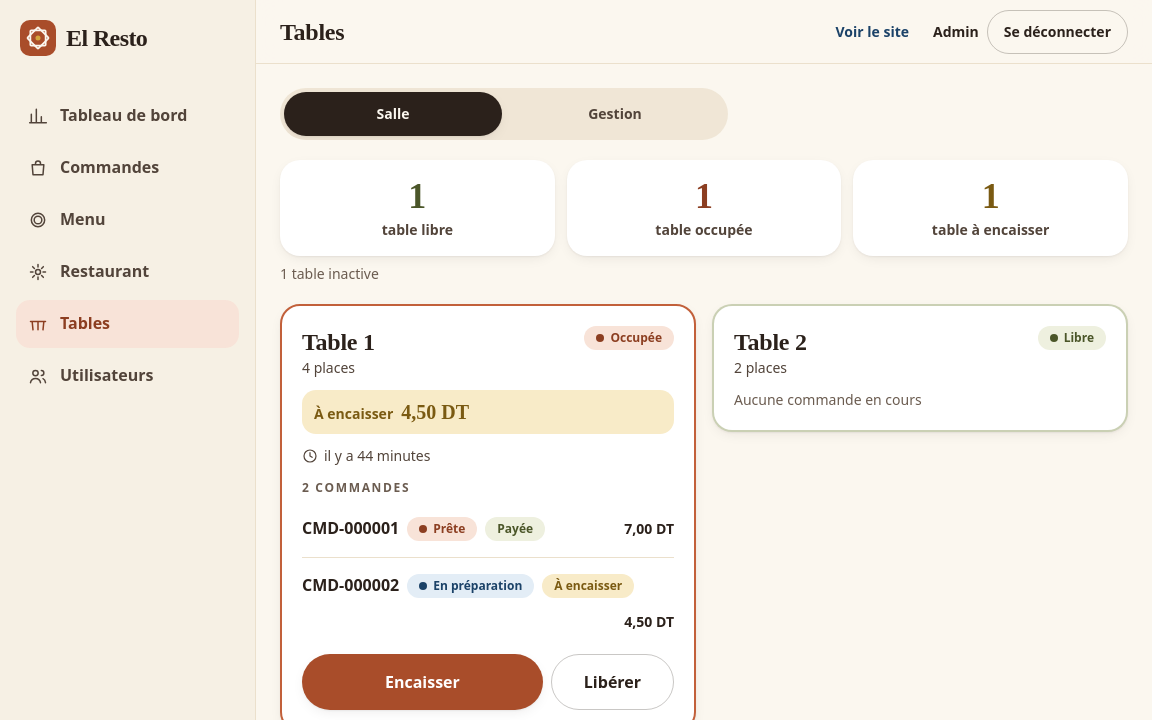
Salle : encaisser et libérer › libérer bloqué : explique les blocages et affiche le 409 du serveur sans échec silencieux
Expected: the heading "Table 1" is shown, [302,326,375,358]
Click the button "Libérer" at (612, 682), box [551,654,674,710]
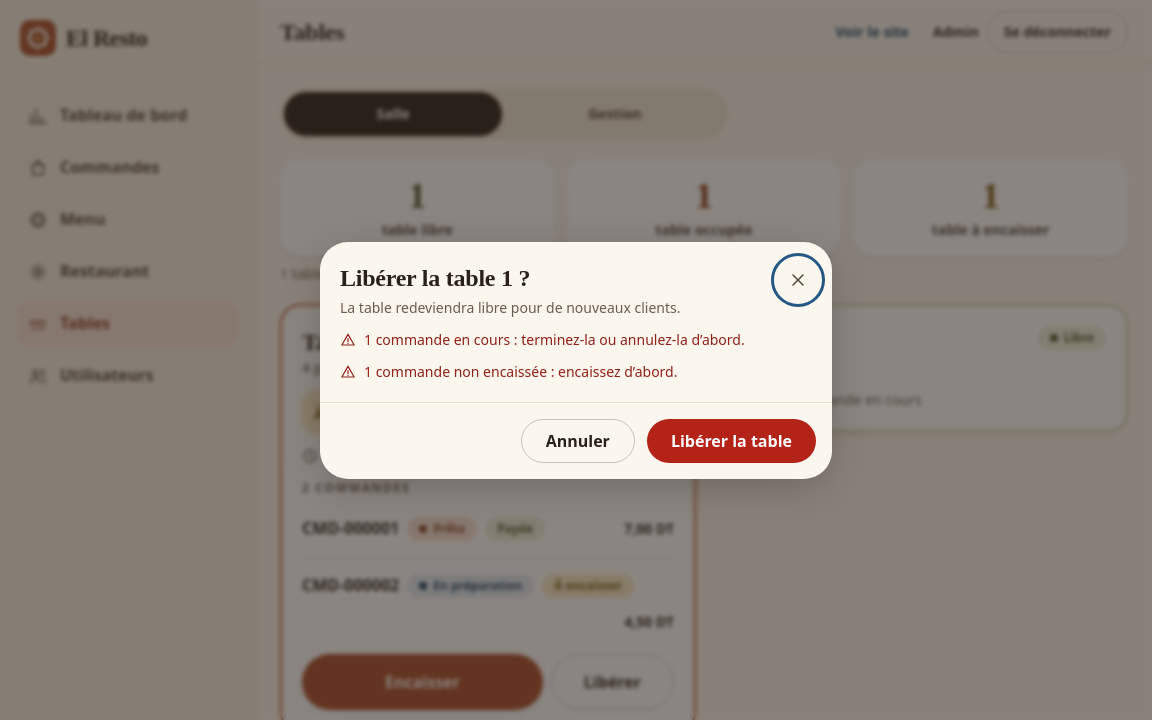
Expected: the text "1 commande en cours : terminez-la ou annulez-la d’abord." is shown, [340,330,812,350]
Expected: the text "1 commande non encaissée : encaissez d’abord." is shown, [340,362,678,380]
Click the button "Libérer la table" at (731, 440), box [647,418,816,462]
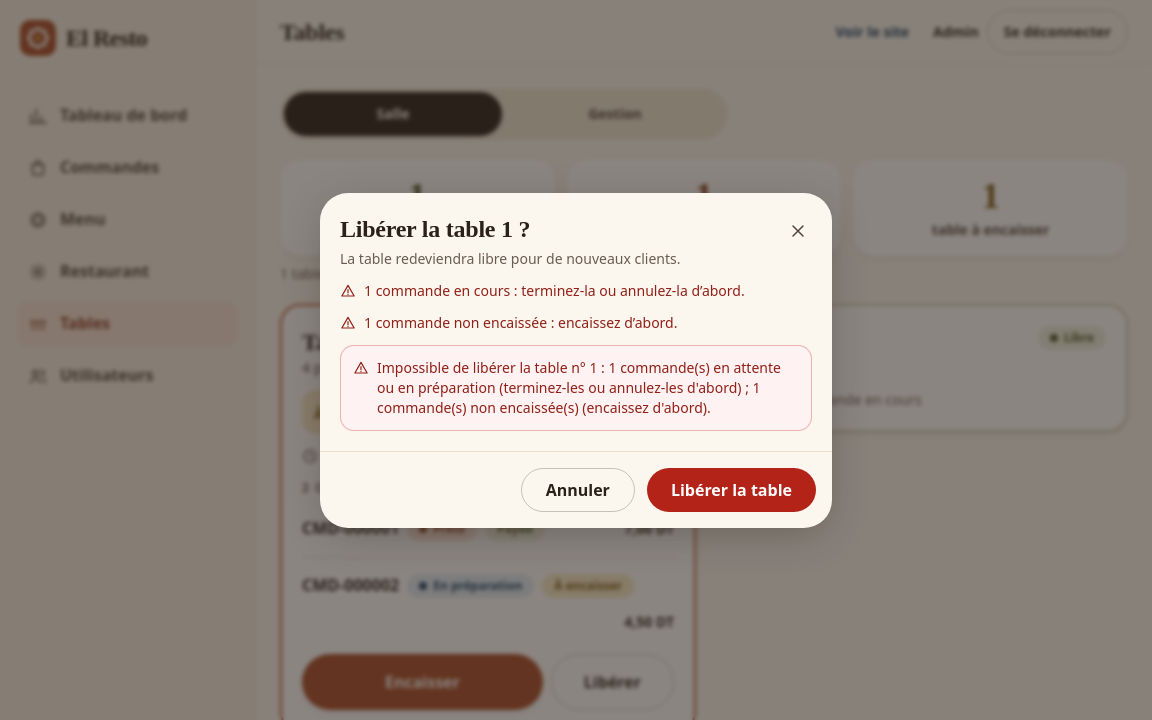
Expected: the text "Impossible de libérer la table n° 1" is shown, [377,358,781,416]
